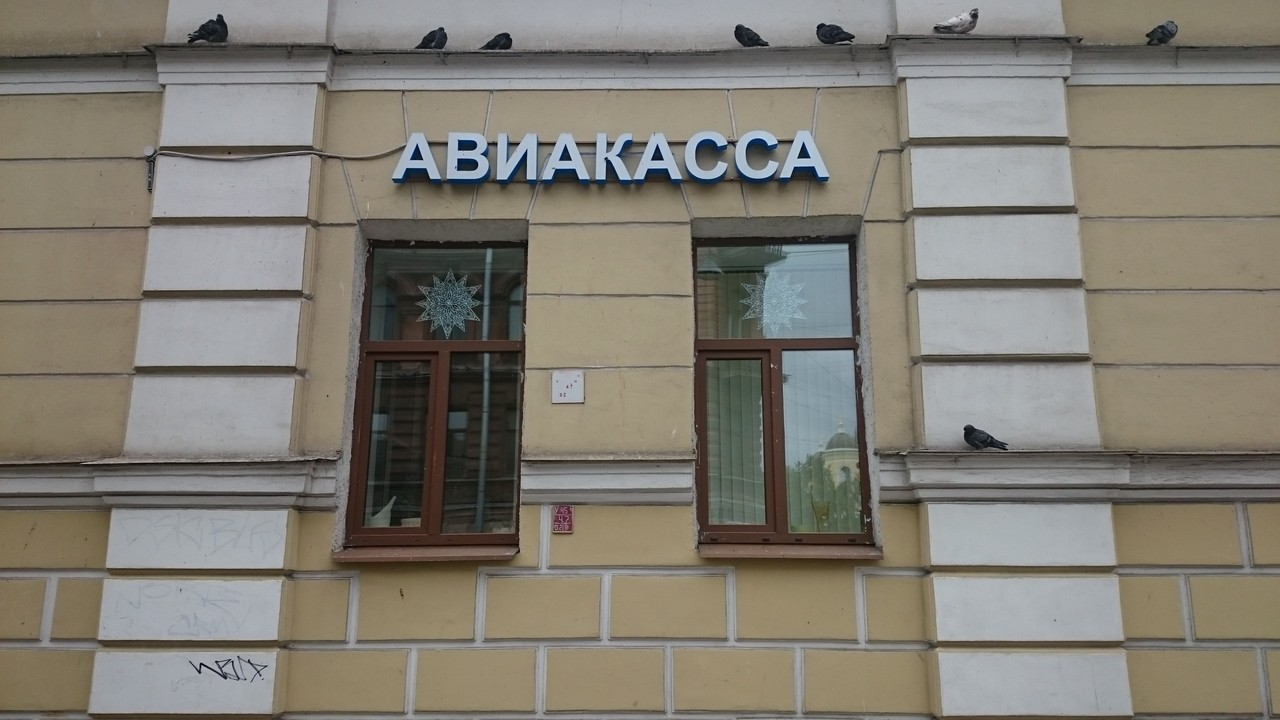signboard: (391, 132, 828, 178)
window: (351, 238, 529, 550), (694, 231, 857, 543)
